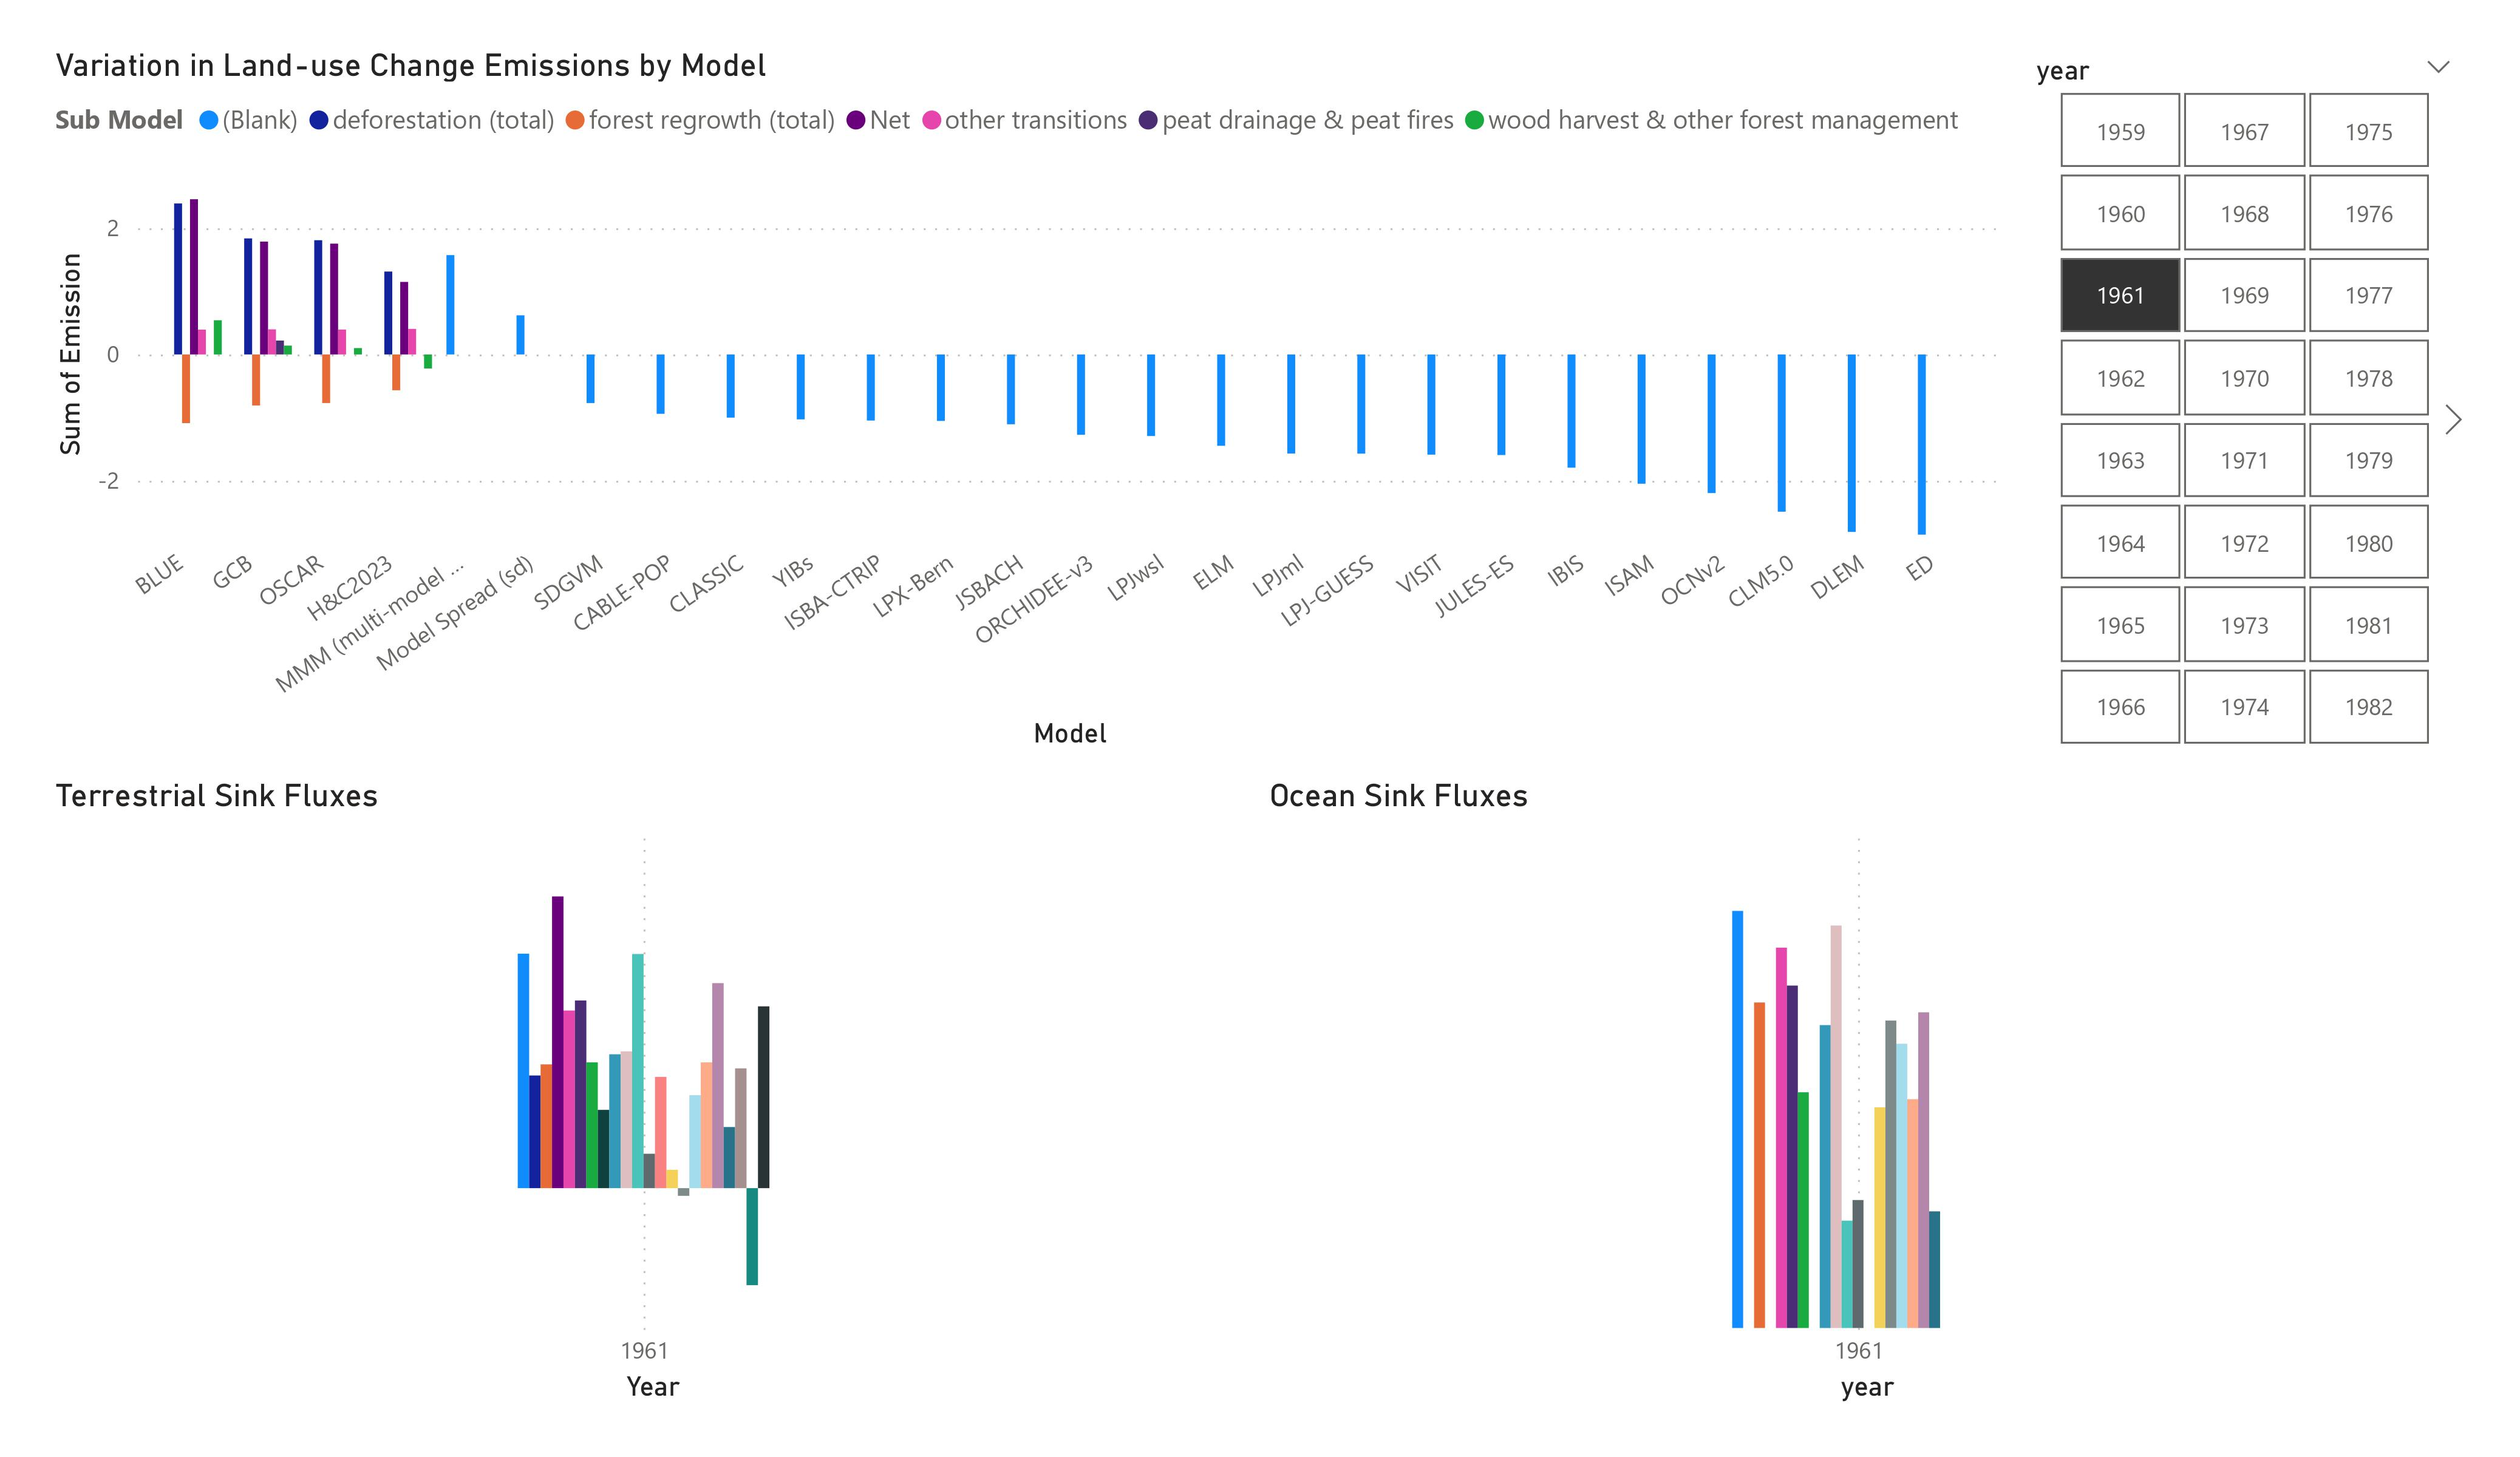

Layout of this report page (visuals, bound fields, positions):
{"tool":"powerbi","page":{"name":"Key Features","canvas":[1280,720],"ordinal":3},"visuals":[{"type":"clusteredColumnChart","title":"Variation in Land-use Change Emissions by Model","fields":{"Category":["land-use change emissions.Category"],"Y":["Sum(land-use change emissions.Emission)"],"Series":["land-use change emissions.Sub Category"]},"box":[0,0,1035.7,374.7],"z":0},{"type":"clusteredColumnChart","title":"Terrestrial Sink Fluxes","fields":{"Y":["Sum(Terrestrial Sink.CABLE-POP)","Sum(Terrestrial Sink.CLASSIC)","Sum(Terrestrial Sink.CLM5.0)","Sum(Terrestrial Sink.ED)","Sum(Terrestrial Sink.ELM)","Sum(Terrestrial Sink.DLEM)","Sum(Terrestrial Sink.GCB)","Sum(Terrestrial Sink.IBIS)","Sum(Terrestrial Sink.ISAM)","Sum(Terrestrial Sink.ISBA-CTRIP)","Sum(Terrestrial Sink.JSBACH)","Sum(Terrestrial Sink.JULES-ES)"],"Category":["Terrestrial Sink.Year"]},"box":[0,384.6,640.1,335.4],"z":1000},{"type":"clusteredColumnChart","title":"Ocean Sink Fluxes","fields":{"Y":["Sum(ocean sink.ACCESS (CSIRO))","Sum(ocean sink.Average data-products (excl. Watson.))","Sum(ocean sink.CESM-ETHZ)","Sum(ocean sink.CMEMS-LSCE-FFNN)","Sum(ocean sink.FESOM-2.1-REcoM3)","Sum(ocean sink.GCB)","Sum(ocean sink.Jena-MLS)","Sum(ocean sink.JMA-MLR)","Sum(ocean sink.LDEO-HPD)","Sum(ocean sink.MICOM-HAMOCC (NorESM1-OCv1.2))","Sum(ocean sink.Model Spread (sd))","Sum(ocean sink.MOM6-COBALT (Princeton))"],"Category":["ocean sink.year"]},"box":[640.1,384.6,640.1,335.4],"z":2000},{"type":"slicer","fields":{"Values":["ocean sink.year"]},"box":[1036,0,244,375],"z":3000}]}

Visuals, with their boxes on the page's 1280x720 design canvas (x1, y1, x2, y2). These are canvas units, not pixel positions in the 2520x1457 screenshot, which may show the page scaled, cropped or inside an application window:
"Variation in Land-use Change Emissions by Model" clusteredColumnChart: 0:0:1036:375
"Terrestrial Sink Fluxes" clusteredColumnChart: 0:385:640:720
"Ocean Sink Fluxes" clusteredColumnChart: 640:385:1280:720
slicer - ocean sink.year: 1036:0:1280:375
